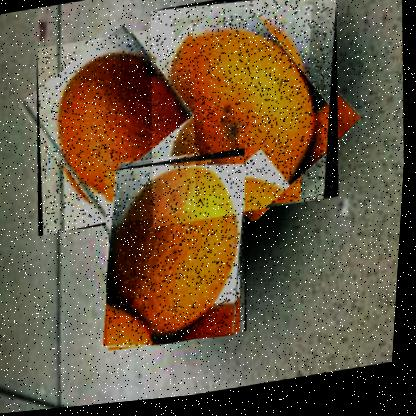orange: (140, 0, 351, 233), (27, 26, 207, 239), (98, 153, 260, 358)
